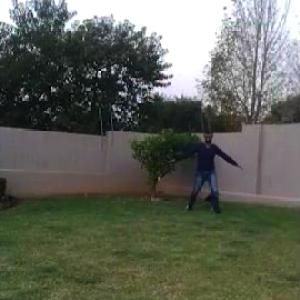land: (159, 122, 240, 219)
